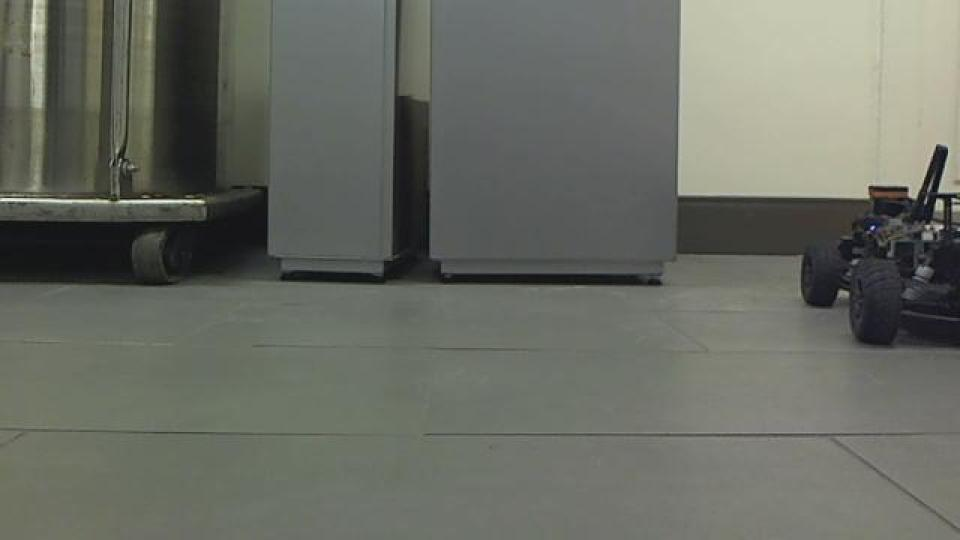car: (797, 141, 957, 348)
